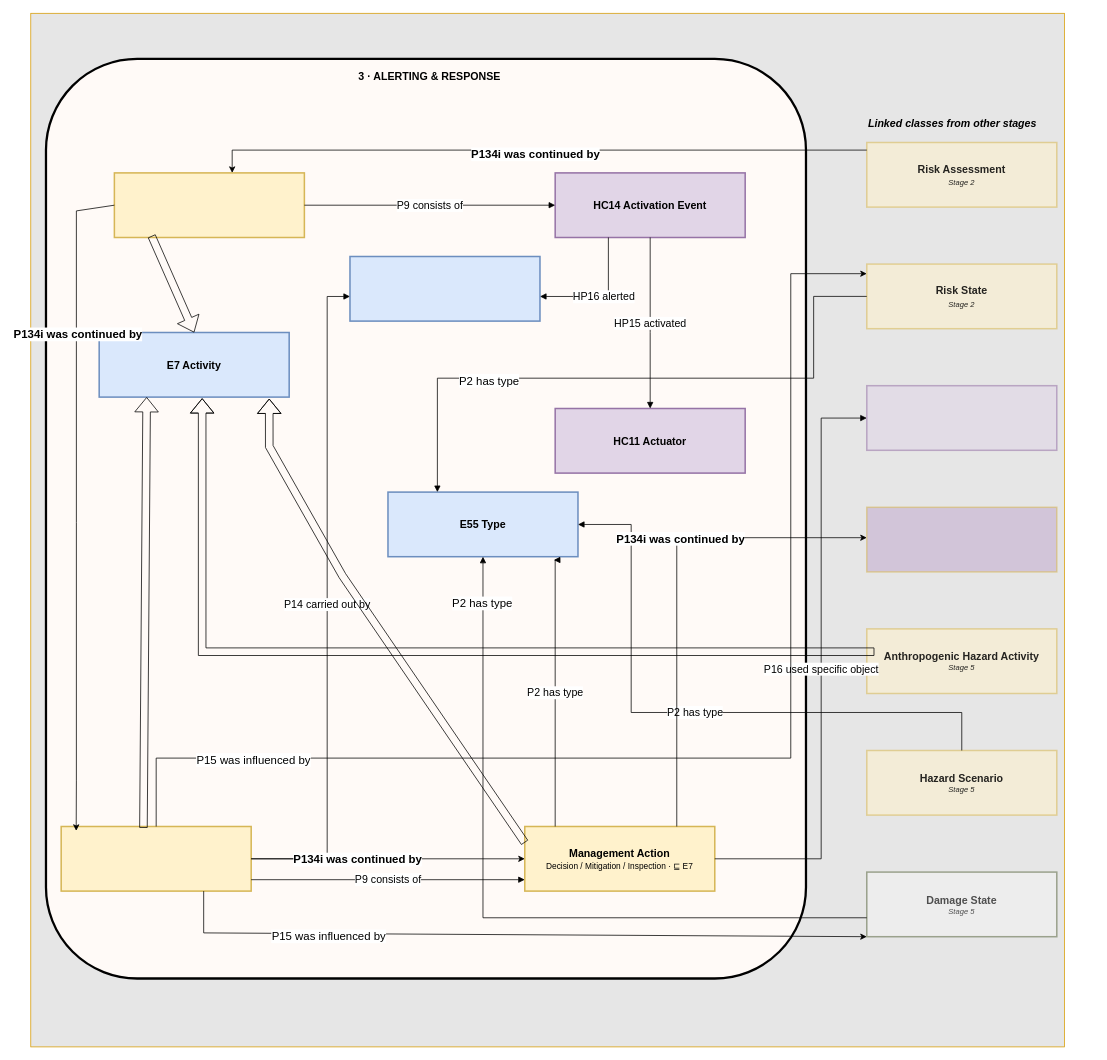
Some shapes in this 1107 by 1060 pixel diagram are drawn without their labels. The shapes that lost their labels are listed below. From the top down, each one's box as (x1, y1, x2, y2) in pixels, then its label:
(113, 172, 305, 238): Alerting Activity
(349, 255, 540, 321): E74 Group
(866, 385, 1057, 451): HC2 Heritage Digital Twin Stage 4
(866, 506, 1057, 572): Digital Twin Update Operation Stage 4
(60, 825, 252, 891): Risk Management Activity
